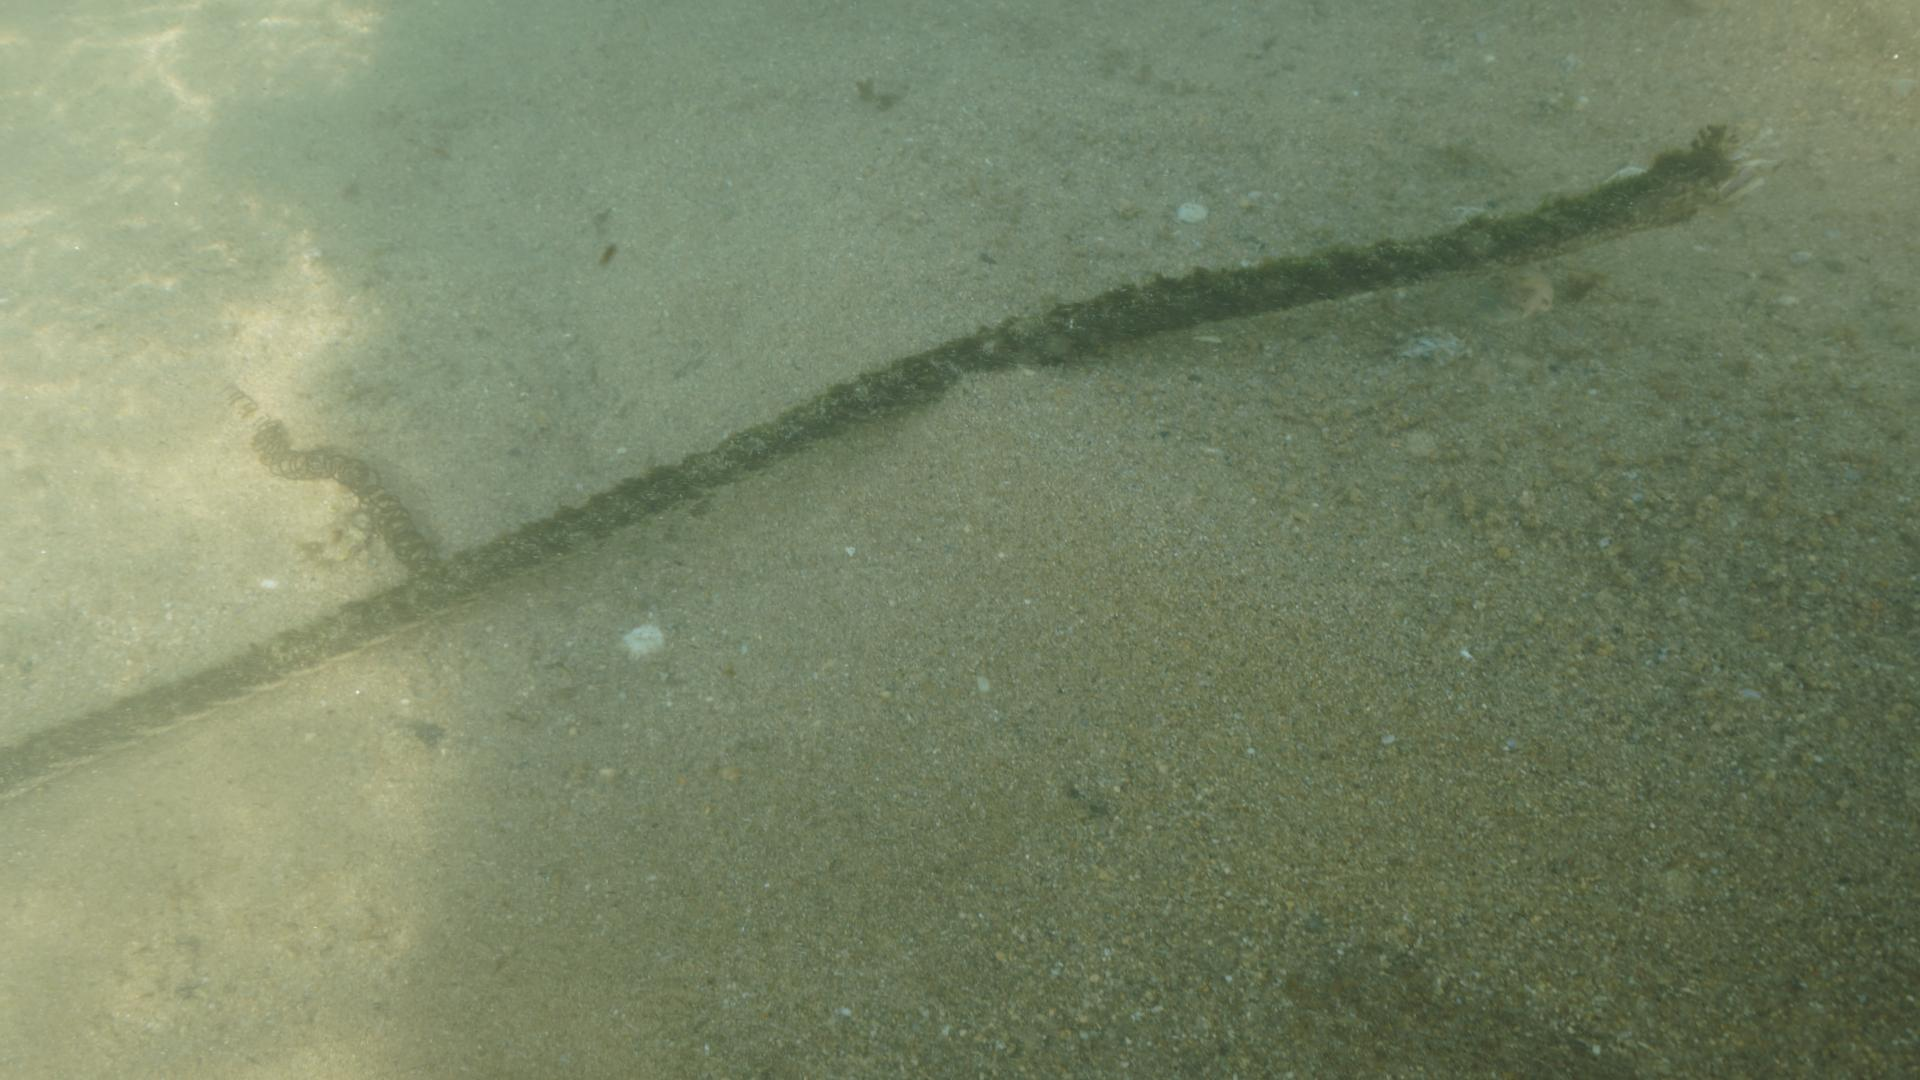rope: (0, 164, 1689, 814)
